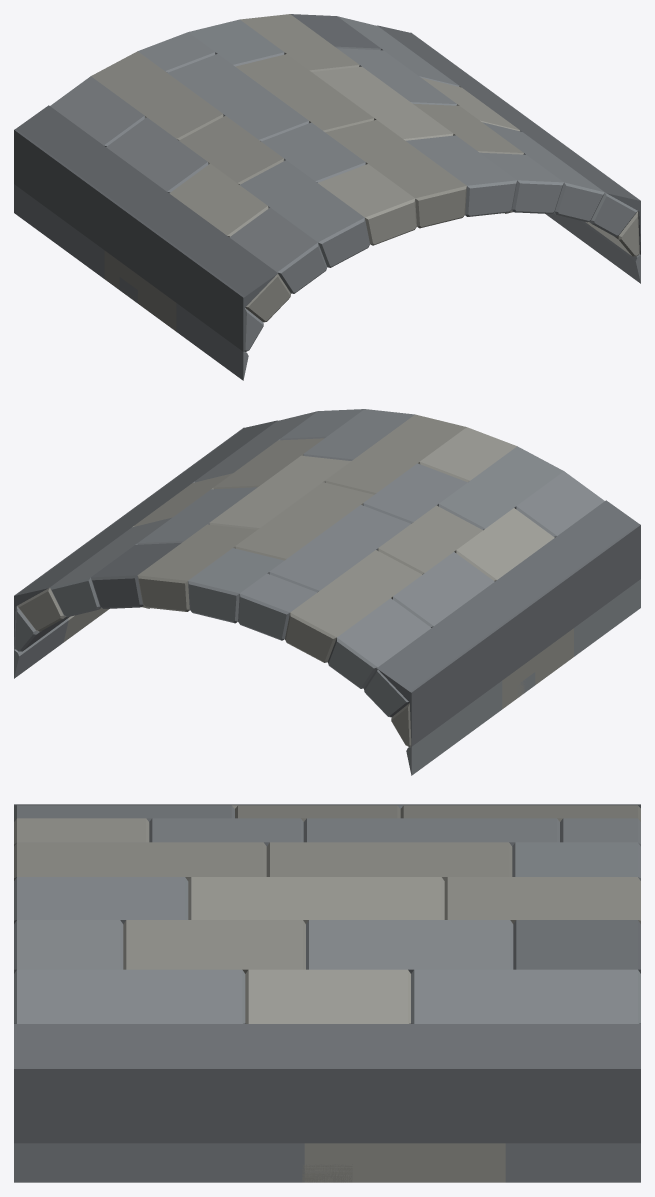
File: SM_LPD_Struct_CeilVaultBayRib_01.fbx
3 views of the same model, one above another, from view 1: azimuth 30°, elevation 25°; view 2: azimuth 150°, elevation 25°; view 3: azimuth 270°, elevation 25° (orthographic). The views are drawn at different scales.
Parts seen in each view (by area): view 1: SM_LPD_Struct_CeilVaultBayRib_01; view 2: SM_LPD_Struct_CeilVaultBayRib_01; view 3: SM_LPD_Struct_CeilVaultBayRib_01.
Part boxes in pixels (left/top/right/bottom): SM_LPD_Struct_CeilVaultBayRib_01: left=14, top=14, right=640, bottom=380; SM_LPD_Struct_CeilVaultBayRib_01: left=14, top=409, right=640, bottom=775; SM_LPD_Struct_CeilVaultBayRib_01: left=14, top=804, right=640, bottom=1182.
Size of the model in its own units: 4 by 1.34 by 4.
